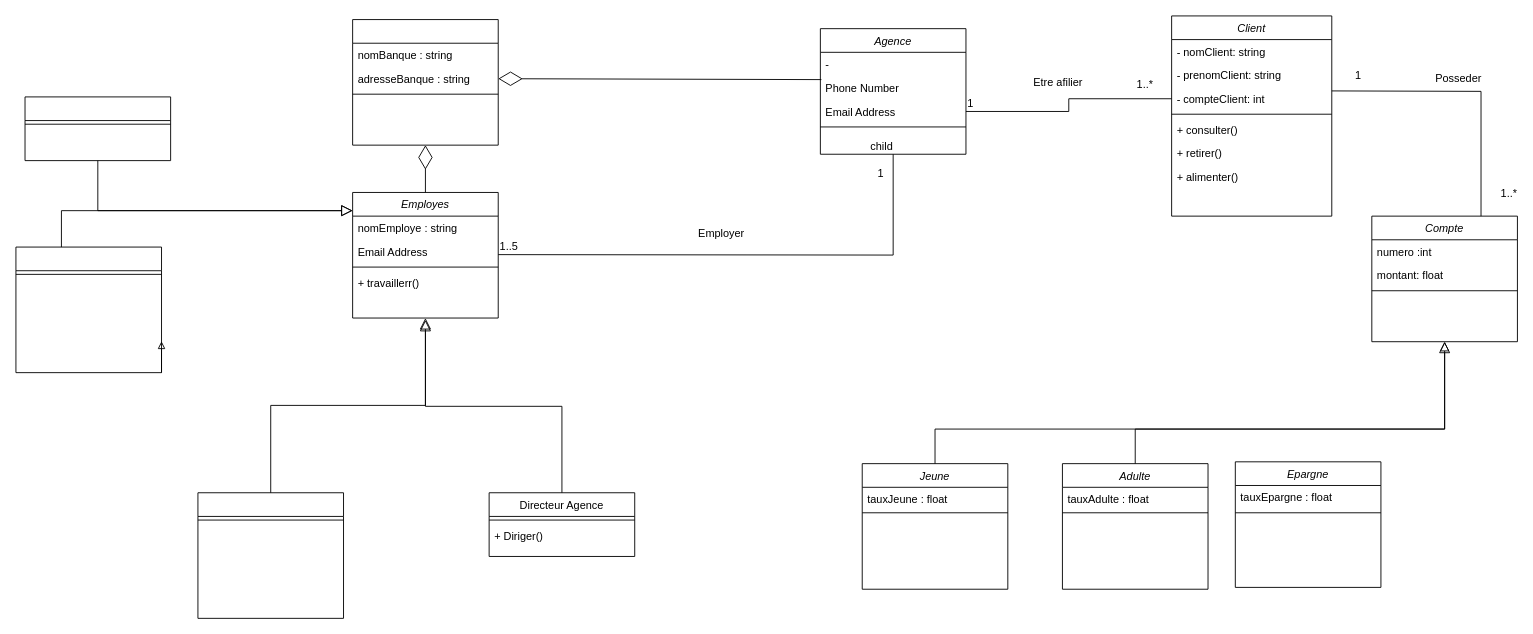
This 1533x634 diagram has some shape labels left out. Here are the shapes that lost their labels. From the top down, the box of each, then its label:
(352, 19, 498, 145): Banque Siege
(24, 96, 171, 161): Directeur general
(15, 246, 162, 373): Agent administratif
(197, 492, 344, 618): Agent Bancaire
